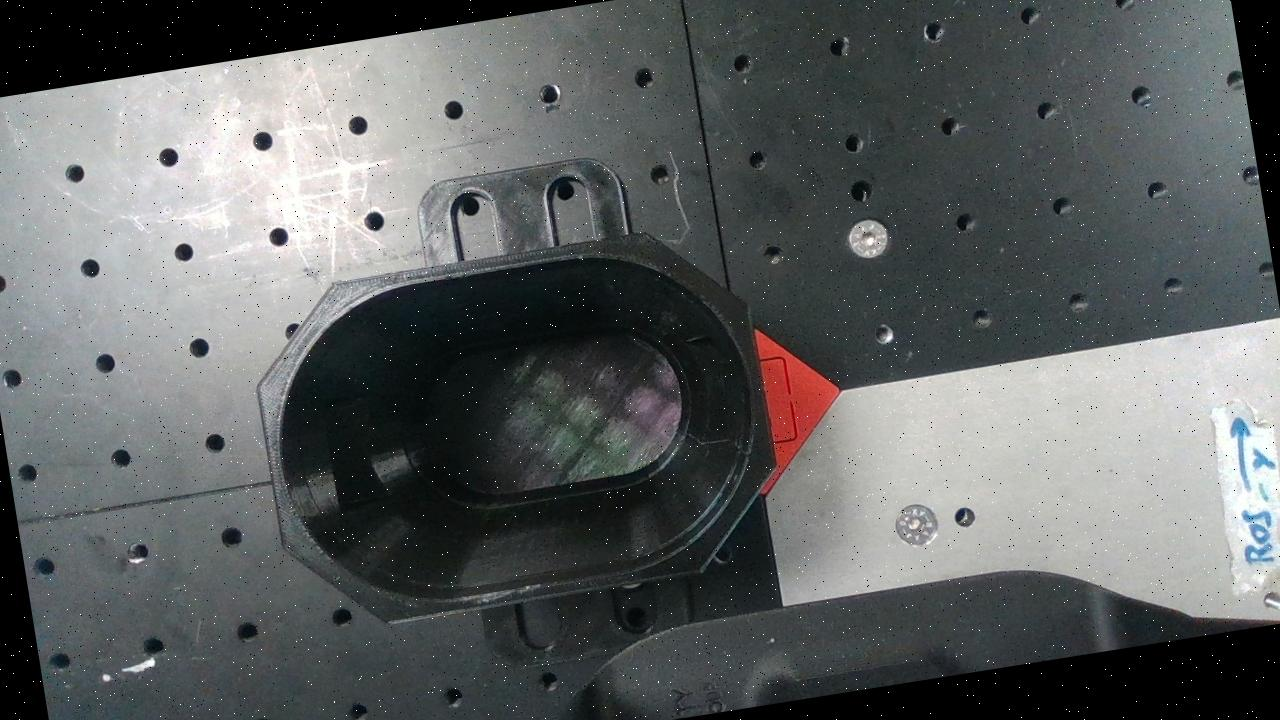small_interface: (240, 216, 792, 638)
